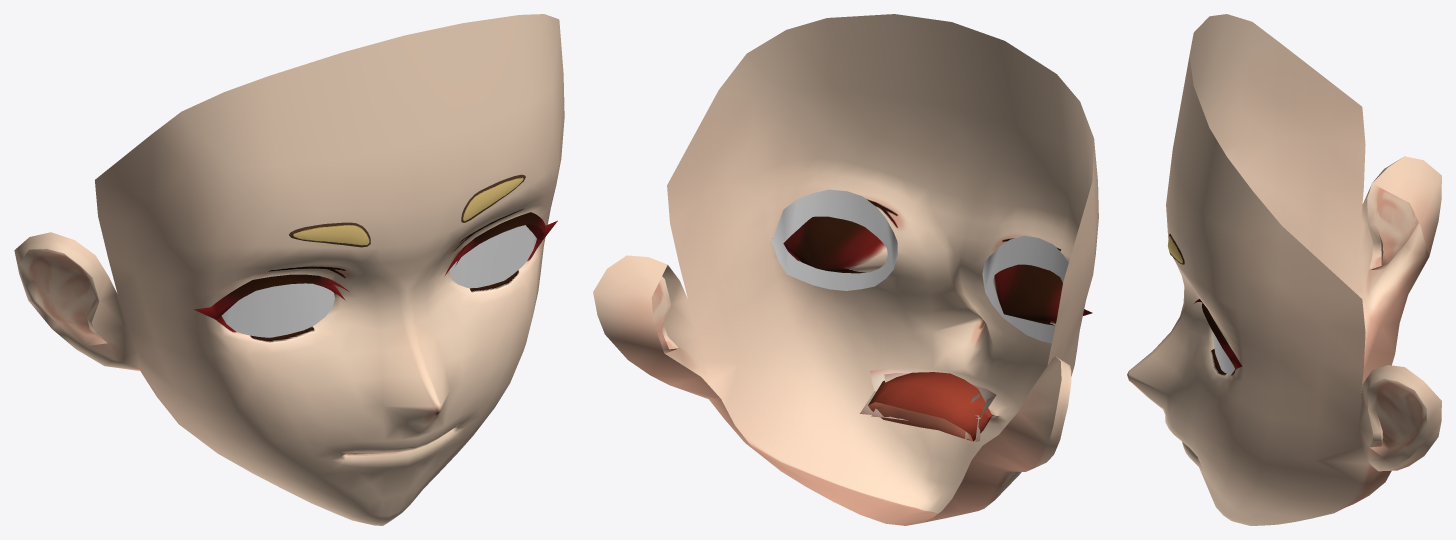
Rendered from Sora.fbx.
3 renders of one model, left to right at view 1: azimuth 30°, elevation 25°; view 2: azimuth 150°, elevation 25°; view 3: azimuth 270°, elevation 25°, orthographic. The views are drawn at different scales.
Parts seen in each view (by area): view 1: M_Head, M_Eye_B_Def, M_Mth_B_Def, M_PupALL_R_A_Def, M_PupALL_L_A_Def, M_Brw_B_Def; view 2: M_Head, M_Eye_B_Def, M_Mth_B_Def, M_PupALL_L_A_Def, M_PupALL_R_A_Def; view 3: M_Head, M_Eye_B_Def, M_Mth_B_Def, M_PupALL_L_A_Def.
Part boxes in pixels (x1,y1,x2,y2): M_Head: [14, 14, 564, 388]; M_Eye_B_Def: [126, 118, 564, 415]; M_Mth_B_Def: [140, 352, 522, 525]; M_PupALL_R_A_Def: [221, 283, 334, 337]; M_PupALL_L_A_Def: [449, 225, 536, 287]; M_Brw_B_Def: [289, 174, 525, 247]; M_Head: [593, 14, 1098, 471]; M_Eye_B_Def: [696, 127, 1098, 376]; M_Mth_B_Def: [709, 320, 1040, 525]; M_PupALL_L_A_Def: [772, 189, 897, 290]; M_PupALL_R_A_Def: [982, 235, 1068, 343]; M_Head: [1166, 14, 1441, 471]; M_Eye_B_Def: [1127, 101, 1322, 460]; M_Mth_B_Def: [1127, 314, 1399, 525]; M_PupALL_L_A_Def: [1212, 331, 1234, 374].
Size of the model in its own units: 0.196 by 0.1866 by 0.1142.
5 materials, 3 textured.
